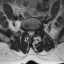CCS_severe_stenosis: (29, 29, 32, 37)
LFS_severe_stenosis: (35, 29, 37, 34)
LLS_stenosis: (32, 29, 35, 35)
RFS_severe_stenosis: (25, 29, 27, 34)
RLS_stenosis: (27, 29, 30, 36)
